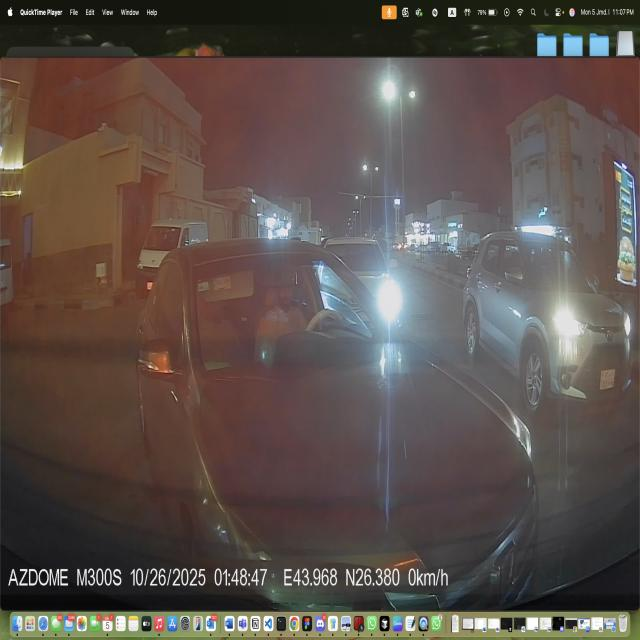person_without_seatbelt: (257, 274, 306, 360)
